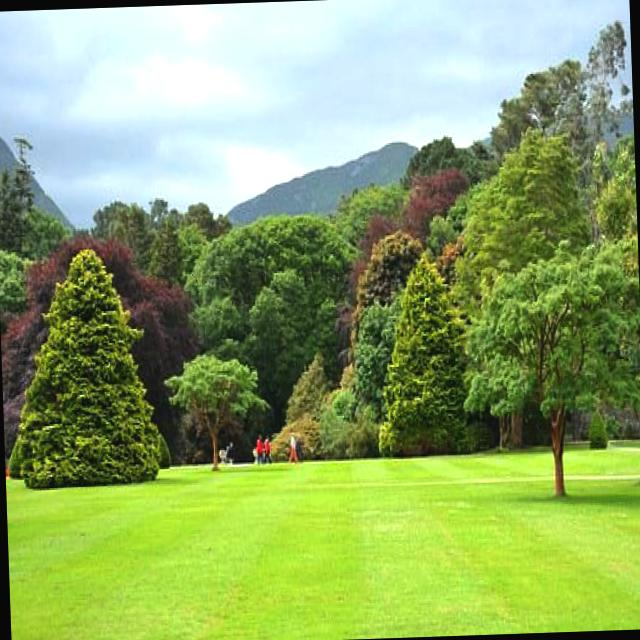foliage: (0, 21, 640, 493), (466, 237, 640, 494)
